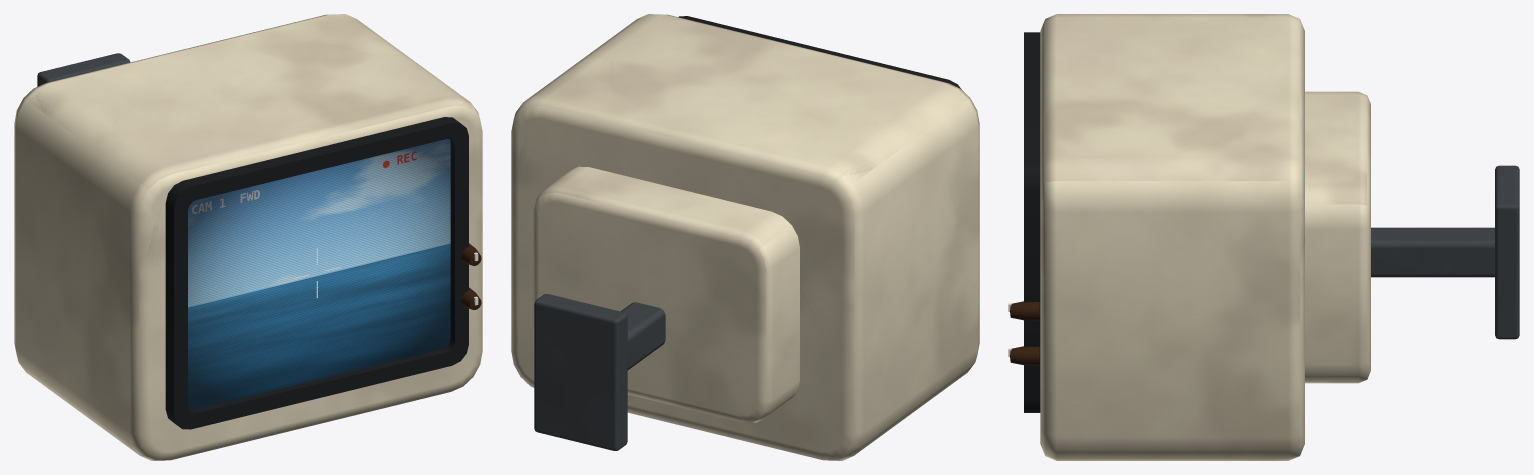
File: WallMonitorFwd.glb
The picture shows the model from 3 angles, left to right: view 1: azimuth 30°, elevation 25°; view 2: azimuth 150°, elevation 25°; view 3: azimuth 270°, elevation 25°; orthographic projection.
Visible parts, largest first — view 1: WallMonitorFwd_Body; view 2: WallMonitorFwd_Body; view 3: WallMonitorFwd_Body, WallMonitorFwd_Knob1, WallMonitorFwd_Knob2.
Part boxes in pixels (box(x1,y1,x2,y2)): WallMonitorFwd_Body: box(14, 14, 482, 460); WallMonitorFwd_Body: box(511, 14, 979, 460); WallMonitorFwd_Body: box(1024, 14, 1519, 460); WallMonitorFwd_Knob1: box(1008, 301, 1039, 320); WallMonitorFwd_Knob2: box(1008, 346, 1039, 365).
Bounding box in the file's own units: 0.5 × 0.4 × 0.619.
Materials: 6 (4 with a texture image).
